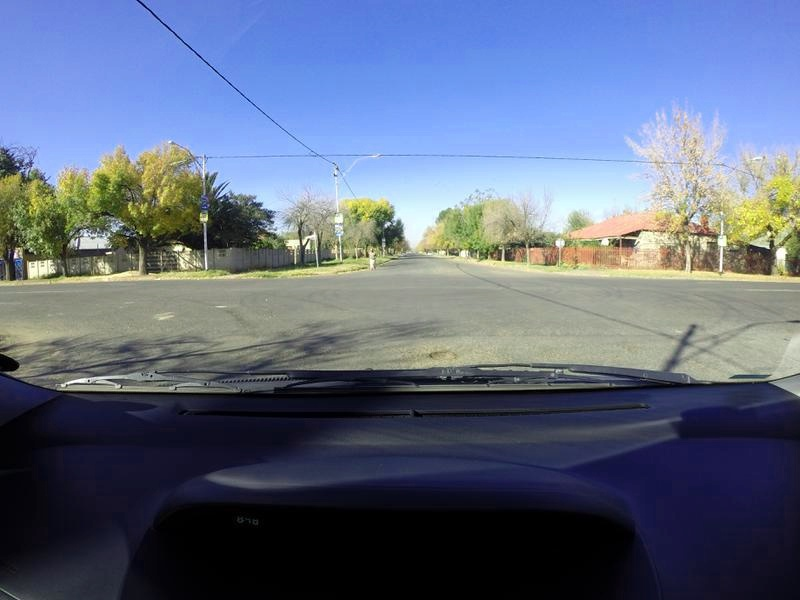pothole: (428, 343, 464, 362)
